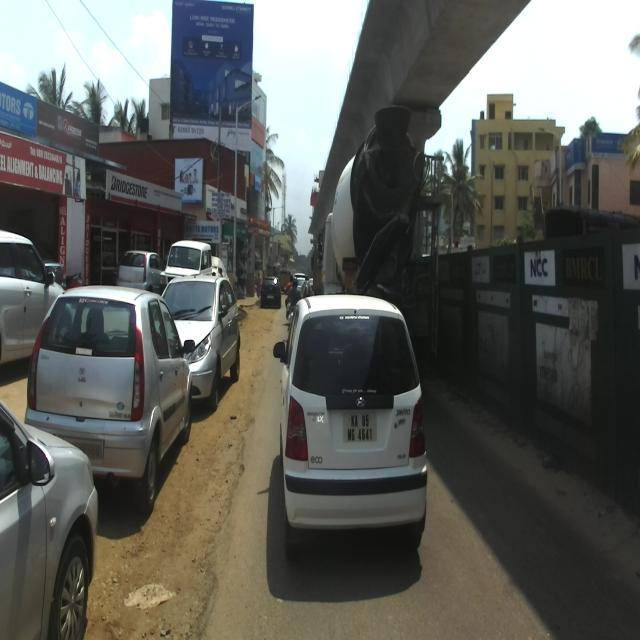car ahead at: (278, 281, 427, 561), (26, 281, 188, 510)
truck ahead at: (324, 102, 441, 282)
